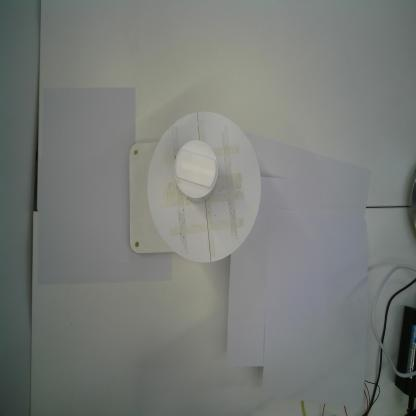Canned Food: (174, 140, 218, 198)
